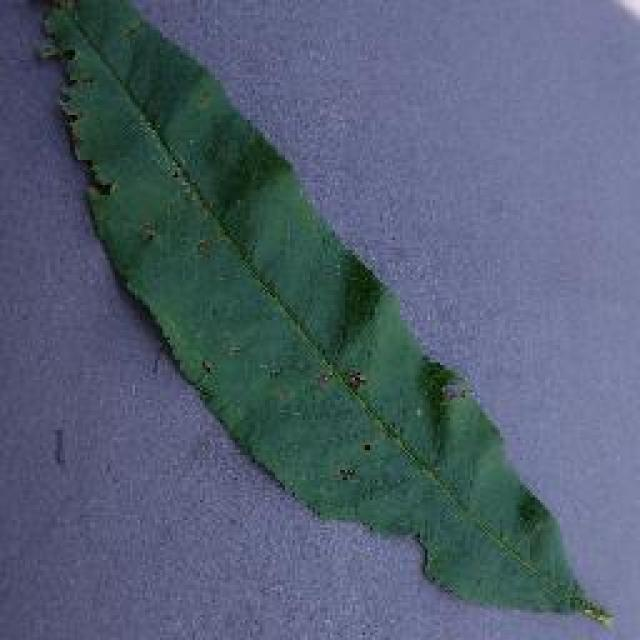Peach_Bacterial_Spot: (294, 275, 514, 540)
